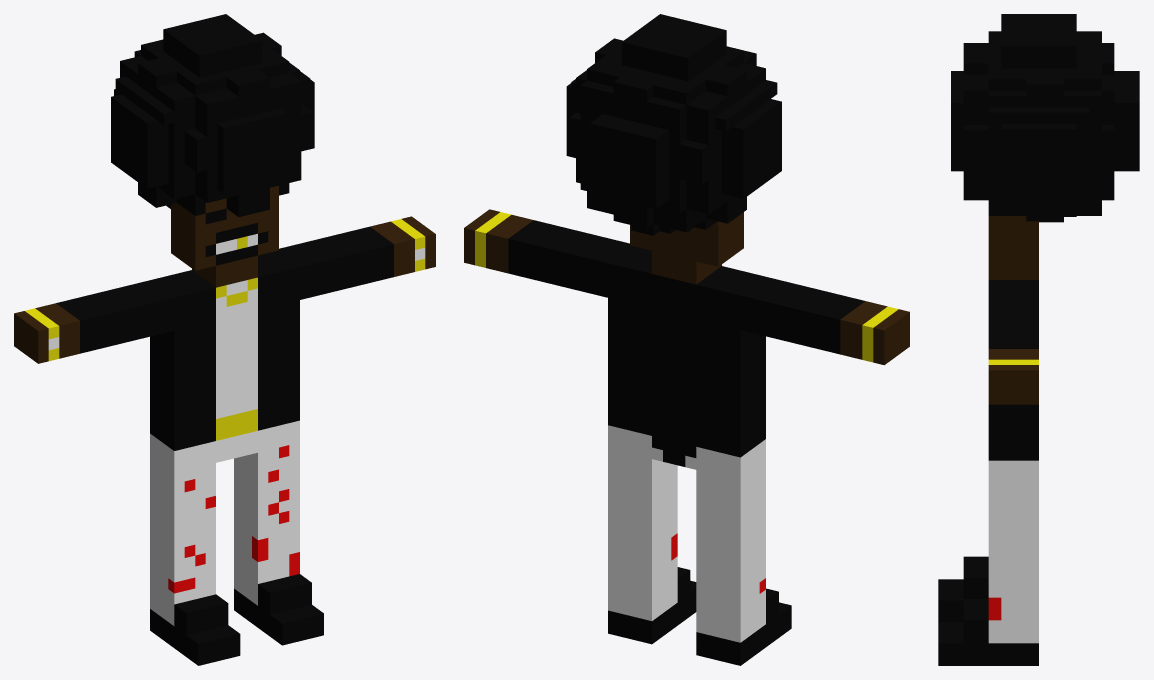
File: playerModel.obj
The picture shows the model from 3 angles, left to right: view 1: azimuth 30°, elevation 25°; view 2: azimuth 150°, elevation 25°; view 3: azimuth 270°, elevation 25°; orthographic projection. The views are drawn at different scales.
Bounding box in the file's own units: 3.8 × 5.3 × 1.6.
Materials: 1 (1 with a texture image).
